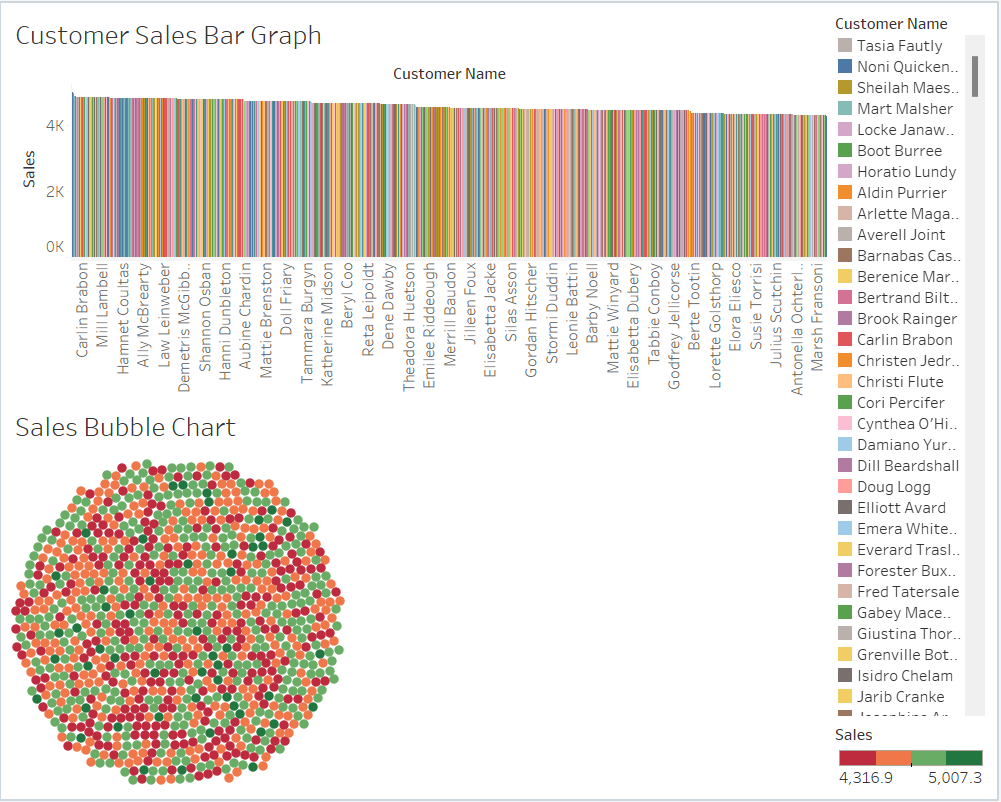

Layout of this report page (visuals, bound fields, positions):
{"tool":"tableau","page":{"name":"Customer Sales Dashboard","canvas":[1000,800],"ordinal":0},"visuals":[{"type":"worksheet","title":"Customer Sales Bar Graph","mark":"Automatic","rows":["Sales"],"cols":["Customer Name"],"box":[8,8,824,392]},{"type":"legend","title":"Customer Sales Bar Graph","param":"[federated.1u2g61g0ilsuda1cgm7lm1dl15am].[none:Customer Name:nk]","box":[832,8,160,711]},{"type":"worksheet","title":"Sales Bubble Chart","mark":"Circle","box":[8,400,824,392]},{"type":"legend","title":"Sales Bubble Chart","param":"[federated.1u2g61g0ilsuda1cgm7lm1dl15am].[sum:Sales:qk]","box":[832,719,160,73]}]}

Visuals, with their boxes in screenshot pixels (x1, y1, x2, y2), scaled from the page's 1000x800 canvas onto the 1001x802 screenshot:
"Customer Sales Bar Graph" worksheet: bbox=(8, 8, 833, 401)
"Customer Sales Bar Graph" legend: bbox=(833, 8, 993, 721)
"Sales Bubble Chart" worksheet (Circle marks): bbox=(8, 401, 833, 794)
"Sales Bubble Chart" legend: bbox=(833, 721, 993, 794)
